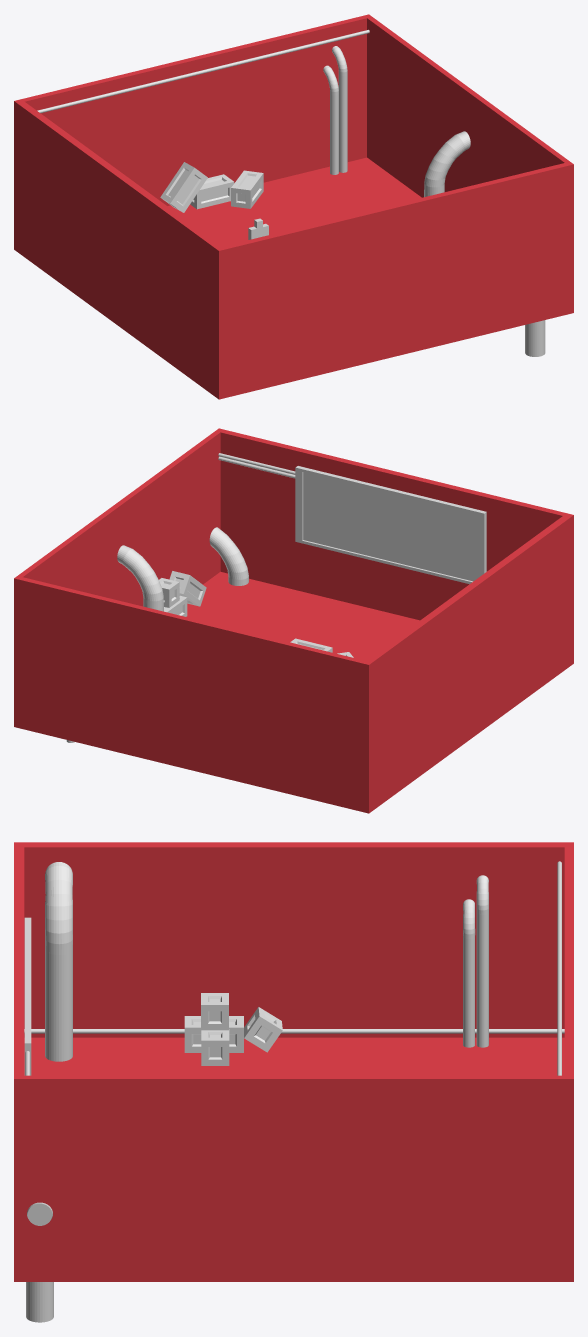
File: Mapa_de_juego.fbx
The picture shows the model from 3 angles, top to bottom: view 1: azimuth 30°, elevation 25°; view 2: azimuth 150°, elevation 25°; view 3: azimuth 270°, elevation 25°; orthographic projection. The views are drawn at different scales.
Visible parts, largest first — view 1: paredes, Cilindro.010, Cilindro, caja G.004, Cilindro.001, caja G.003, Cilindro.002, caja G.002, Cilindro.012; view 2: paredes, Cubo, Cilindro, Cilindro.012, caja G.001; view 3: paredes, Cilindro.007, Cilindro.008, Cilindro.011, Cilindro.009, Cilindro.012, Cubo, caja.004, Cilindro.010, caja.003, caja.005, caja.001.
Boxes of the visible parts, x1,y1,x2,y2 form: paredes: (14,14,573,399); Cilindro.010: (37,29,369,113); Cilindro: (424,131,470,197); caja G.004: (160,162,207,212); Cilindro.001: (332,46,347,172); caja G.003: (231,170,263,208); Cilindro.002: (323,65,338,174); caja G.002: (190,174,234,209); Cilindro.012: (525,320,545,356); paredes: (14,428,573,813); Cubo: (295,466,486,584); Cilindro: (117,545,163,611); Cilindro.012: (209,527,248,585); caja G.001: (169,571,206,606); paredes: (14,842,573,1281); Cilindro.007: (45,862,72,1061); Cilindro.008: (476,875,488,1047); Cilindro.011: (24,1029,564,1033); Cilindro.009: (463,899,475,1047); Cilindro.012: (26,1202,53,1322); Cubo: (24,917,31,1075); caja.004: (244,1007,282,1052); Cilindro.010: (557,861,561,1075); caja.003: (201,993,228,1030); caja.005: (201,1029,229,1065); caja.001: (184,1016,201,1052).
Bounding box in the file's own units: 4033 × 2026 × 4000.
